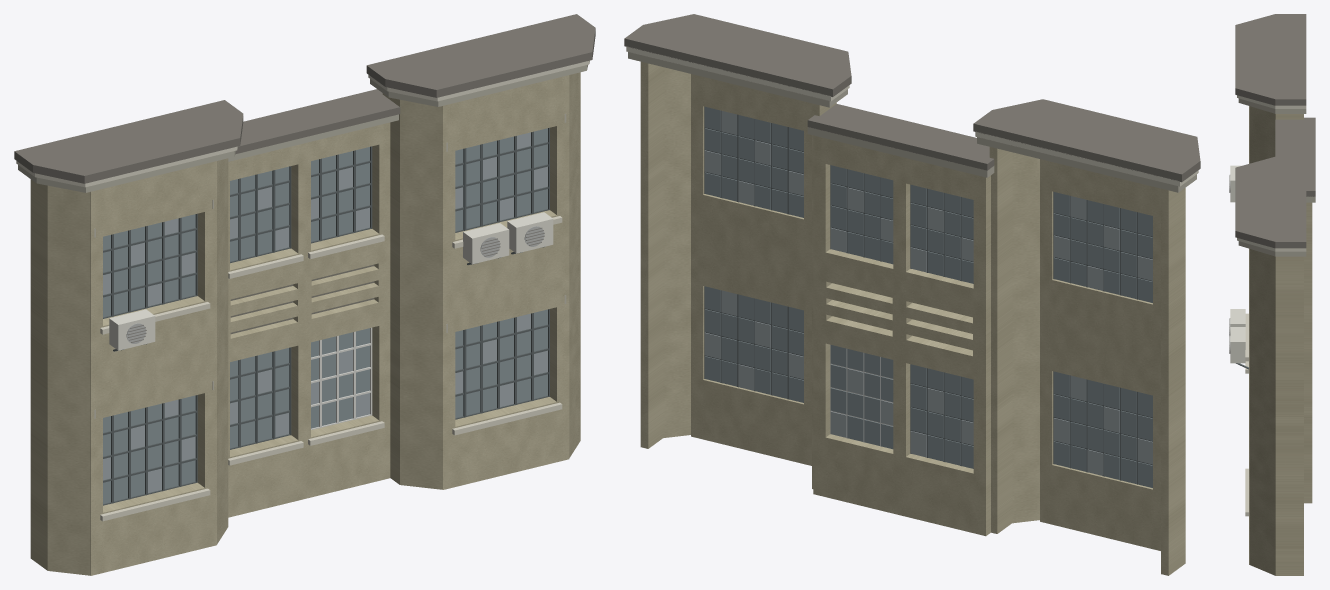
The model's file is shaoxing-25-faceted-bays-near.glb.
3 renders of one model, left to right at view 1: azimuth 30°, elevation 25°; view 2: azimuth 150°, elevation 25°; view 3: azimuth 270°, elevation 25°, orthographic. The views are drawn at different scales.
Parts seen in each view (by area): view 1: 绍兴路25弄住宅双折角凸窗与横槽窗间墙; view 2: 绍兴路25弄住宅双折角凸窗与横槽窗间墙; view 3: 绍兴路25弄住宅双折角凸窗与横槽窗间墙.
Part boxes in pixels (x1,y1,x2,y2): 绍兴路25弄住宅双折角凸窗与横槽窗间墙: (14,14,595,575); 绍兴路25弄住宅双折角凸窗与横槽窗间墙: (624,14,1200,575); 绍兴路25弄住宅双折角凸窗与横槽窗间墙: (1229,14,1315,575).
Size of the model in its own units: 9.68 by 6.74 by 1.55.
Materials: 13 (1 with a texture image).
